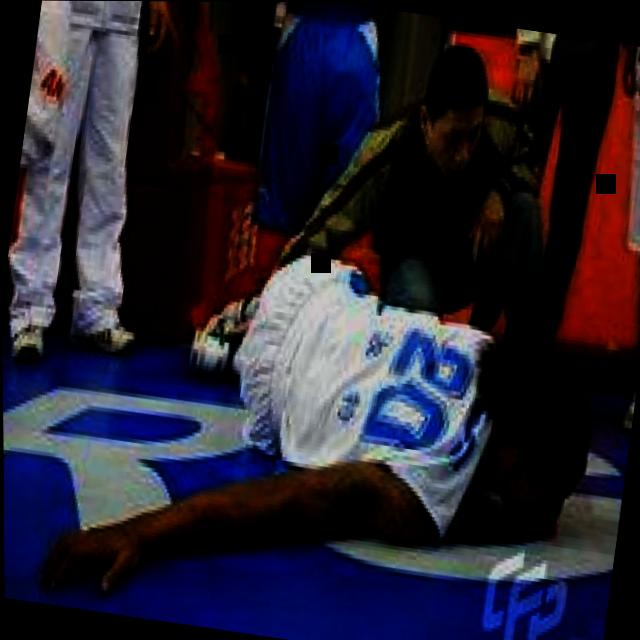Fall-Detected: (30, 169, 607, 640)
